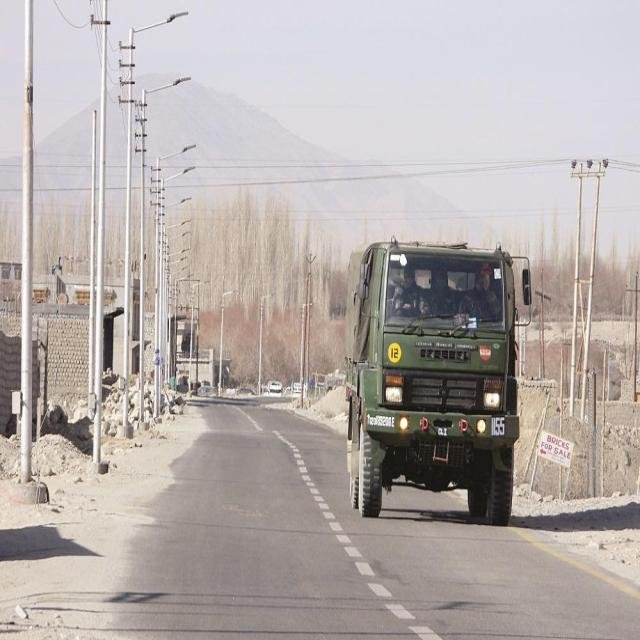0: (373, 417, 376, 426), (386, 416, 388, 426)
1: (493, 417, 496, 435), (491, 417, 493, 437), (369, 416, 372, 426), (376, 416, 378, 426)
2: (382, 416, 386, 426), (371, 418, 373, 426)
5: (500, 417, 505, 435), (496, 418, 500, 435)
6: (388, 416, 392, 427)
8: (377, 415, 380, 427)
9: (380, 416, 382, 426)
e: (391, 417, 395, 428)
